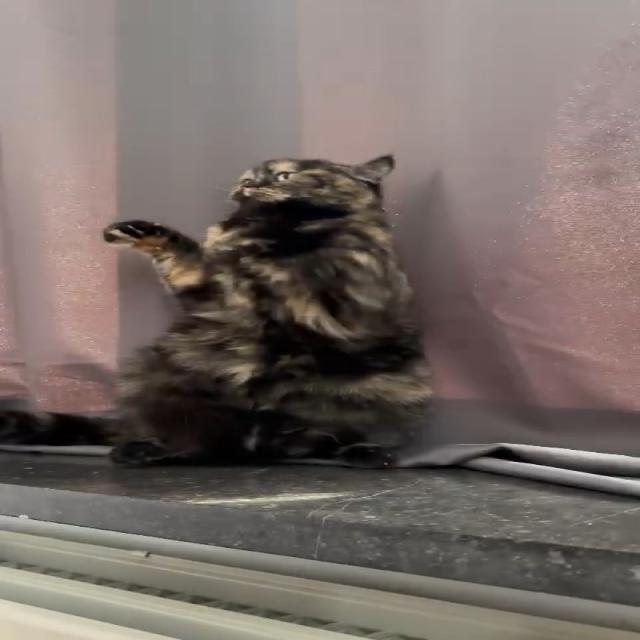authorized: (100, 152, 436, 468)
